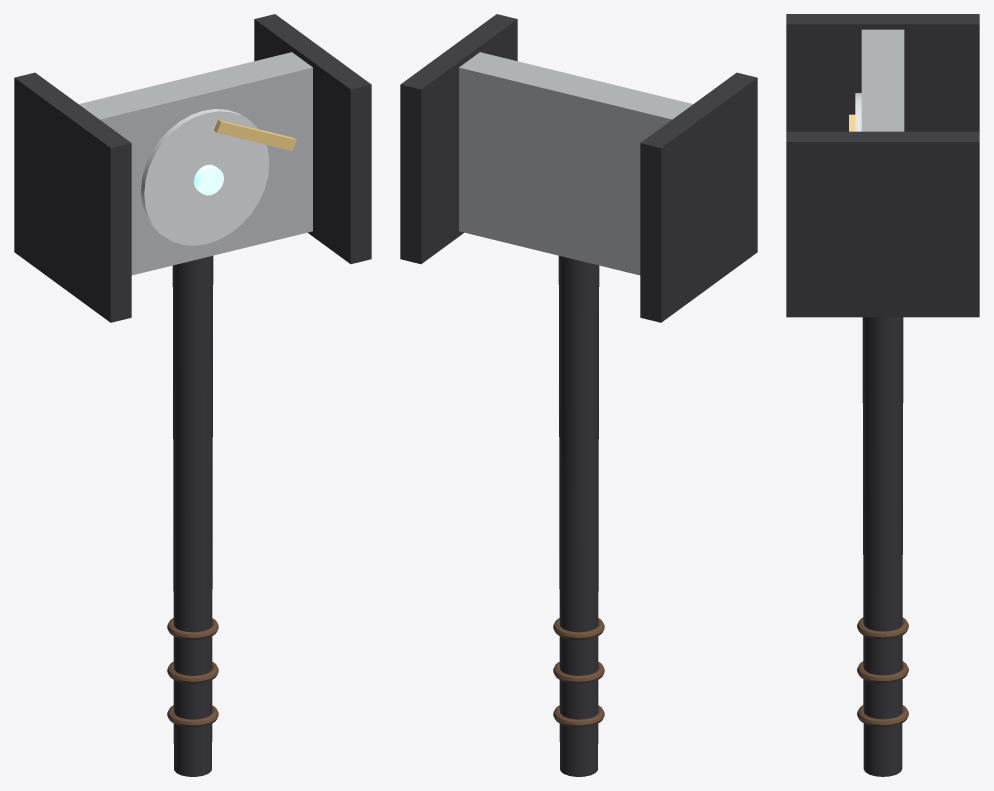
File: mazo_disco_duro.glb
3 renders of one model, left to right at view 1: azimuth 30°, elevation 25°; view 2: azimuth 150°, elevation 25°; view 3: azimuth 270°, elevation 25°, orthographic.
Visible parts, largest first — view 1: mazo_disco_duro; view 2: mazo_disco_duro; view 3: mazo_disco_duro.
Boxes of the visible parts, box(x1,y1,x2,y2) form: mazo_disco_duro: box(14, 14, 371, 776); mazo_disco_duro: box(400, 14, 757, 776); mazo_disco_duro: box(786, 14, 979, 776).
Bounding box in the file's own units: 0.5 × 1.26 × 0.32.
